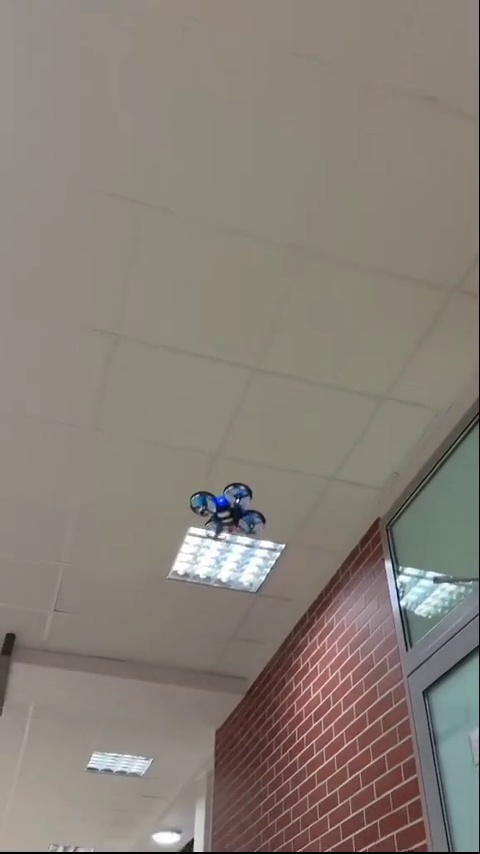drone: (194, 485, 264, 539)
